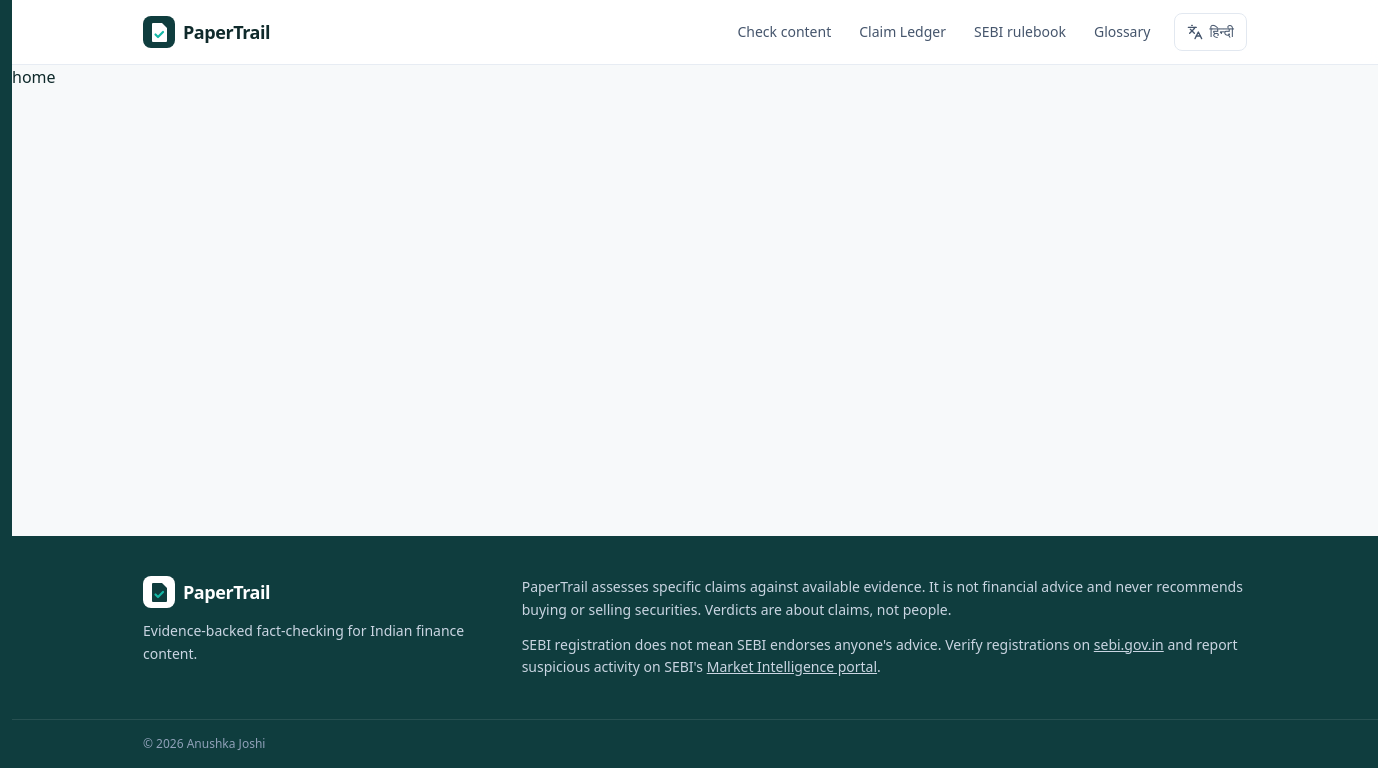
Glossary tooltips and language › switches the interface to Hindi
Click the button named "Switch interface language". click: (1211, 32)
box: [1174,13,1247,51]
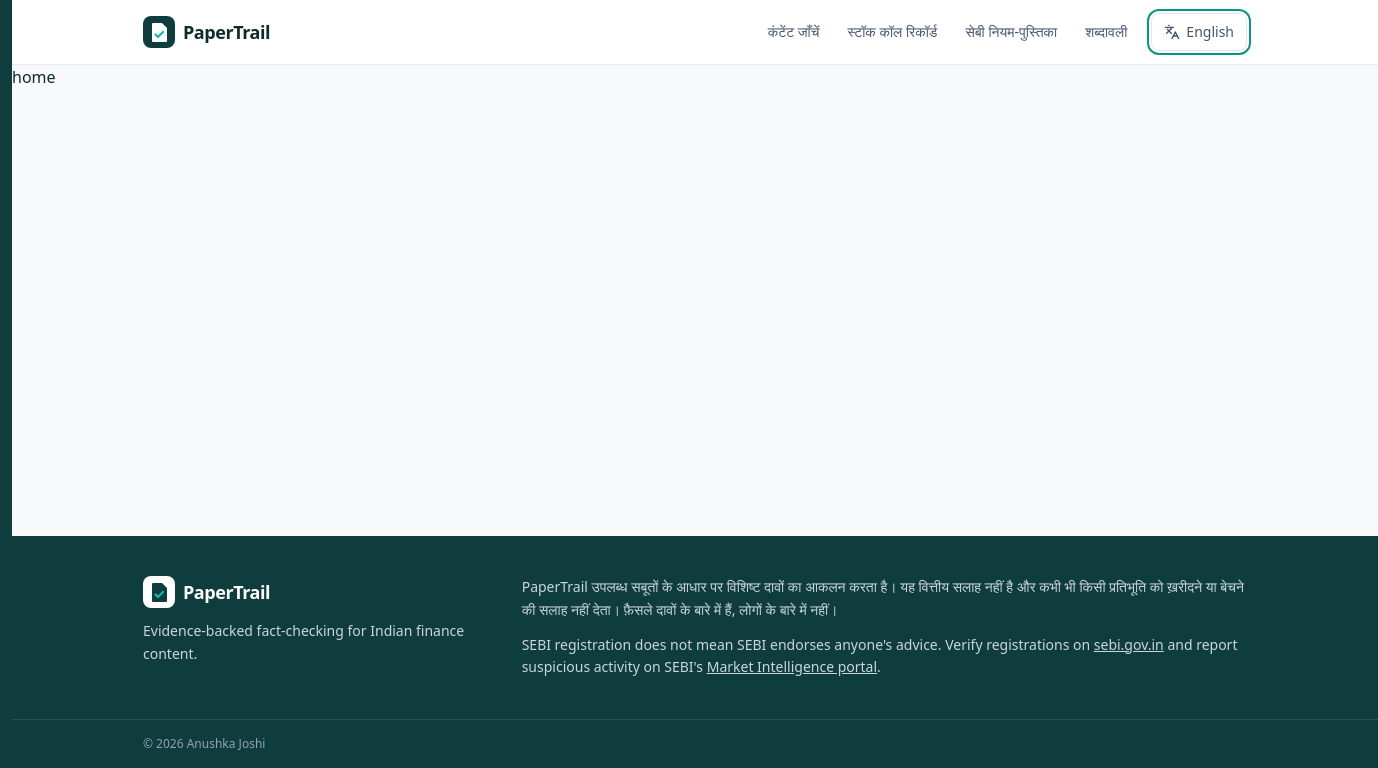
Expected: the link "सेबी नियम-पुस्तिका" is shown, [965,22,1057,41]
